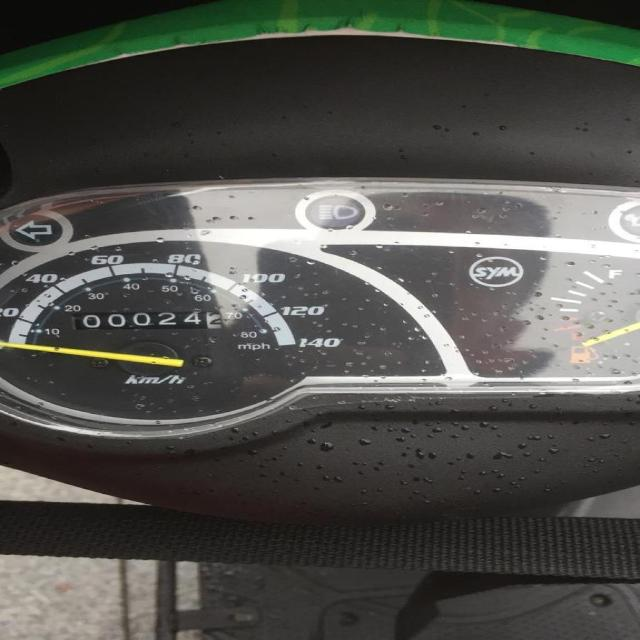odometer: (70, 310, 226, 332)
